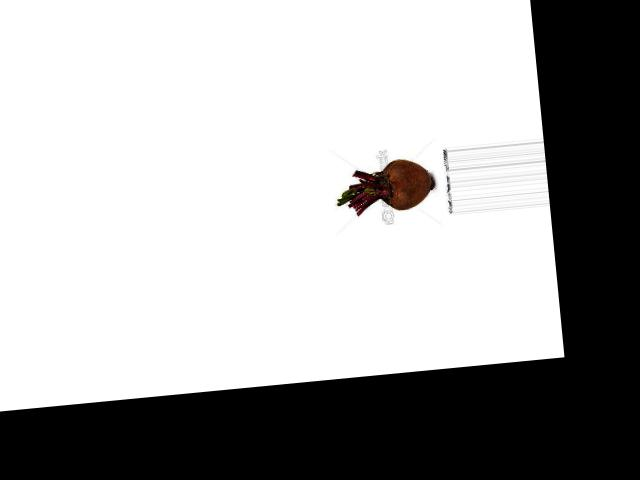beet: (333, 155, 436, 217)
